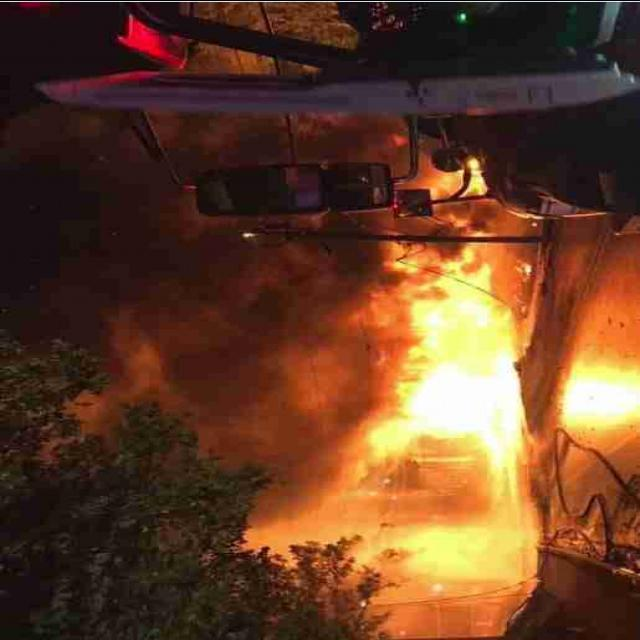Fire: (253, 197, 580, 619)
